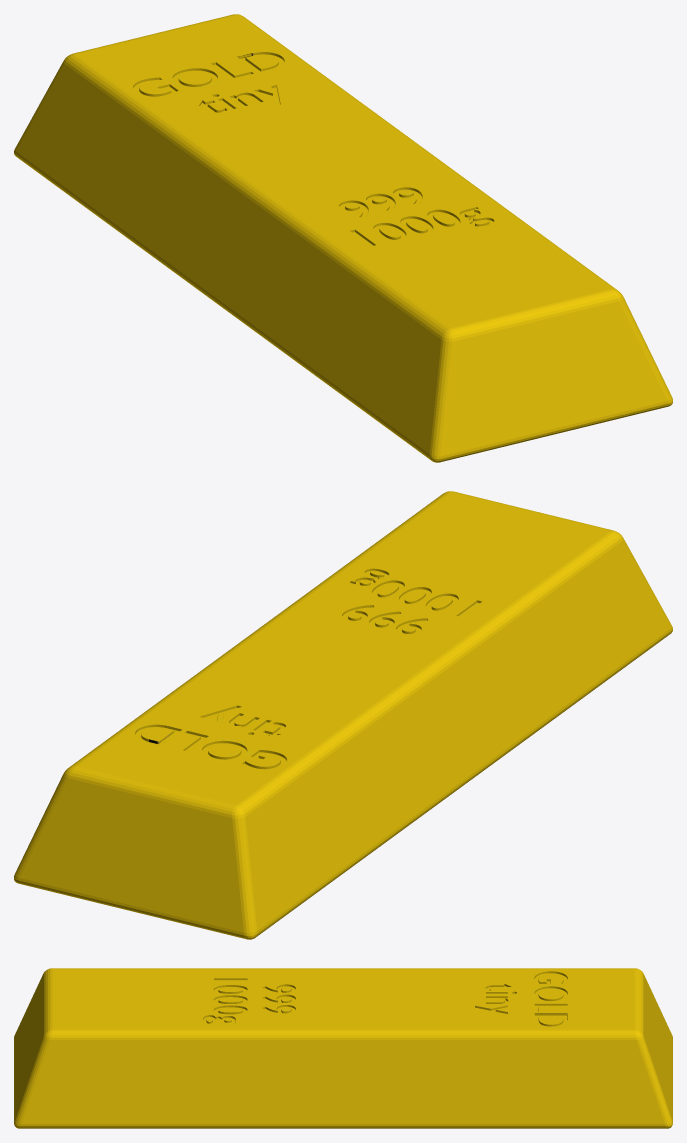
Rendered from gold_ignot_bullion.glb.
3 renders of one model, top to bottom at view 1: azimuth 30°, elevation 25°; view 2: azimuth 150°, elevation 25°; view 3: azimuth 270°, elevation 25°, orthographic. The views are drawn at different scales.
Visible parts, largest first — view 1: ignote.001; view 2: ignote.001; view 3: ignote.001.
Part boxes in pixels (<box>): ignote.001: <box>14,14,672,462</box>; ignote.001: <box>14,491,672,939</box>; ignote.001: <box>14,968,672,1128</box>.
Size of the model in its own units: 1.97 by 0.85 by 5.96.
Materials: 1 (1 with a texture image).
